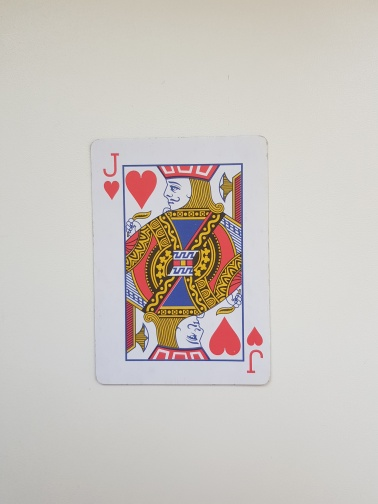jack: (88, 133, 273, 388)
